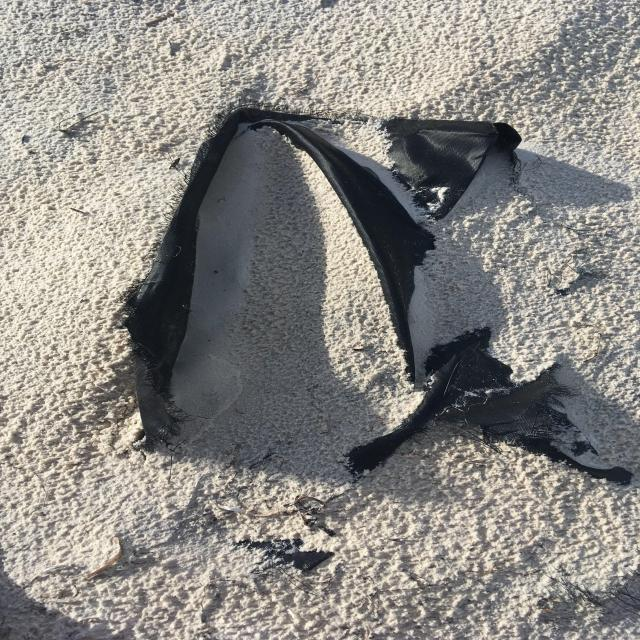litter: (115, 105, 627, 472)
